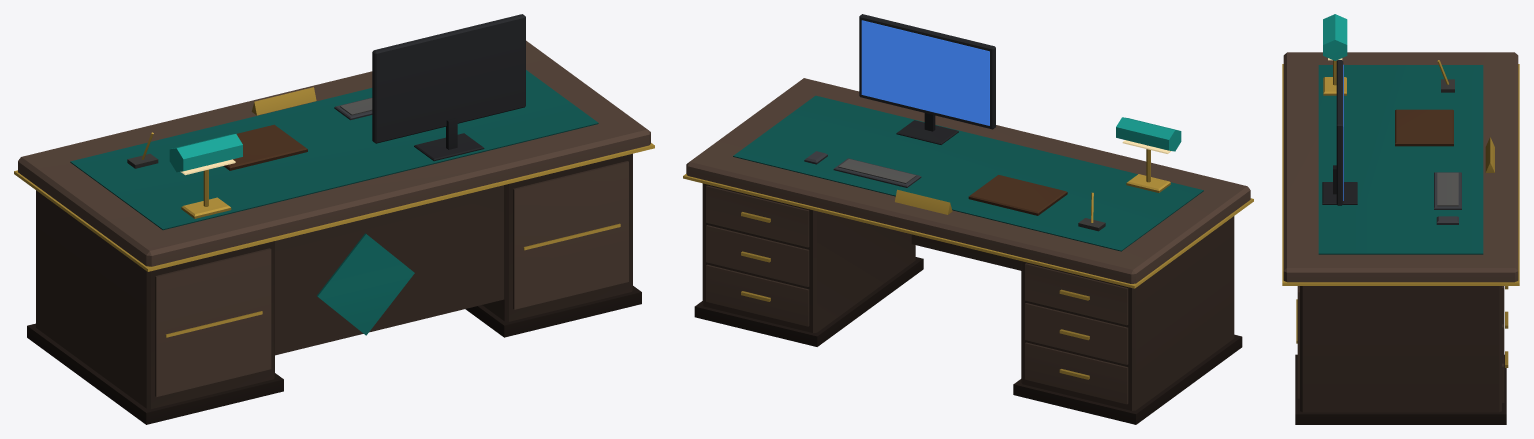
File: desk_boss_01.glb
3 renders of one model, left to right at view 1: azimuth 30°, elevation 25°; view 2: azimuth 150°, elevation 25°; view 3: azimuth 270°, elevation 25°, orthographic. The views are drawn at different scales.
Visible parts, largest first — view 1: desk_boss_01_mesh; view 2: desk_boss_01_mesh, desk_boss_01_screen; view 3: desk_boss_01_mesh.
Boxes of the visible parts, x1,y1,x2,y2 form: desk_boss_01_mesh: [14, 14, 654, 424]; desk_boss_01_mesh: [683, 14, 1253, 424]; desk_boss_01_screen: [861, 20, 989, 125]; desk_boss_01_mesh: [1282, 14, 1519, 424].
Size of the model in its own units: 2.21 by 1.22 by 1.01.
Materials: 2 (2 with a texture image).
